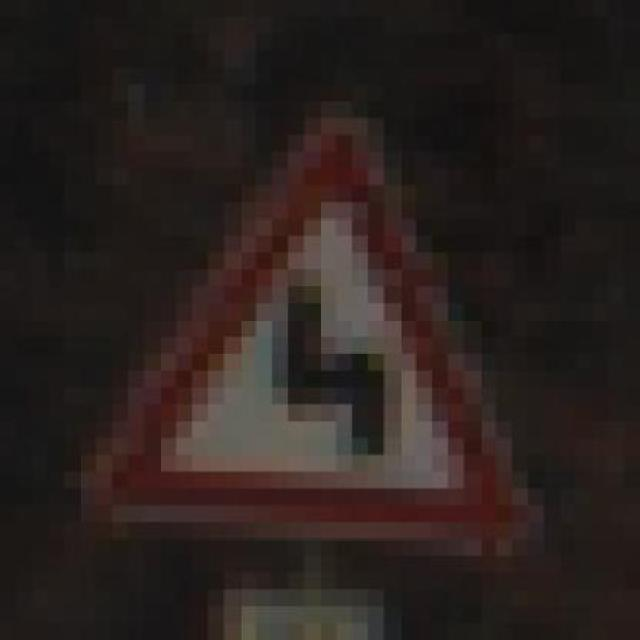Left Zig Zag Traffic: (65, 101, 560, 556)
